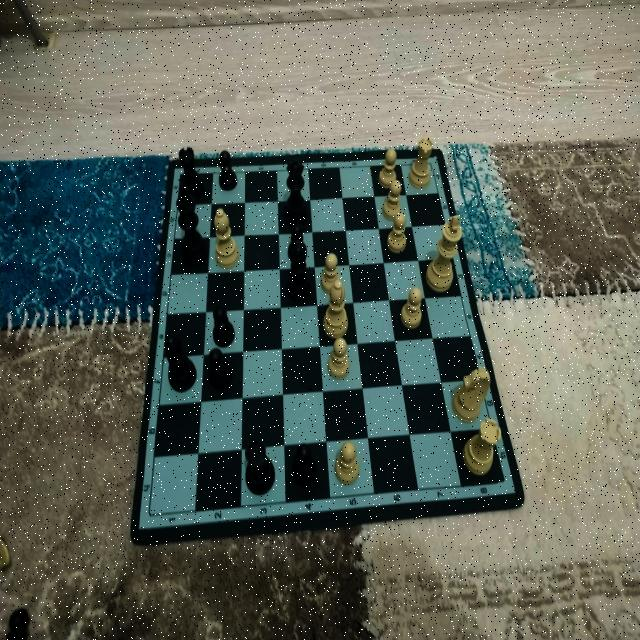corner: (424, 154, 438, 171), (142, 507, 156, 522), (498, 474, 510, 489), (174, 170, 185, 181)
